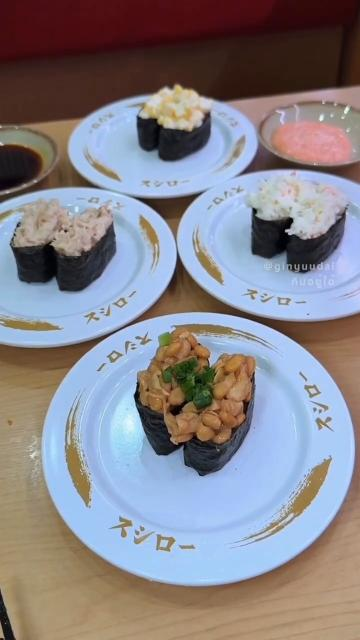janwhite: (40, 479, 360, 589), (55, 76, 262, 189), (256, 323, 360, 479), (43, 334, 142, 483), (119, 190, 184, 336), (0, 277, 104, 355), (187, 190, 254, 302), (254, 254, 360, 321)
